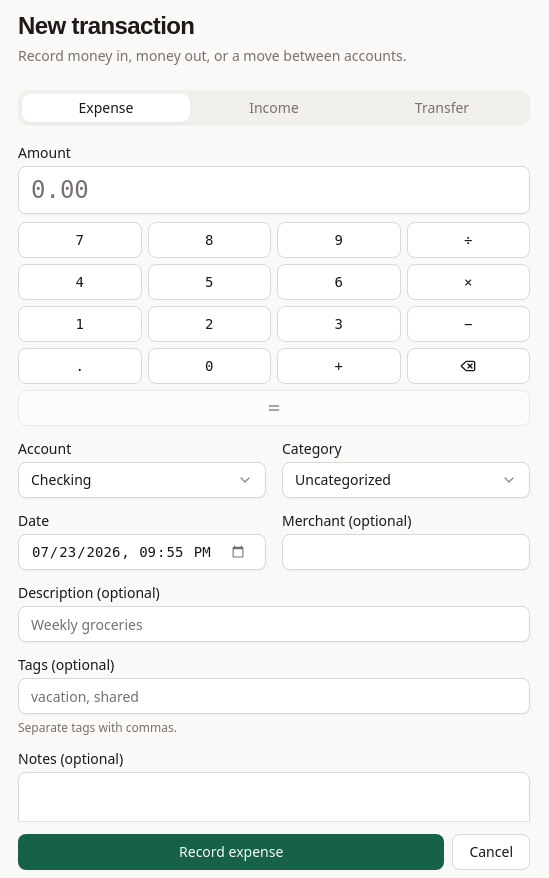
Test: TransactionFormPage › rejects a zero amount with a clear message
In the field labelled "Amount": (274, 190) top-left (18, 166), bottom-right (530, 214), type "0"
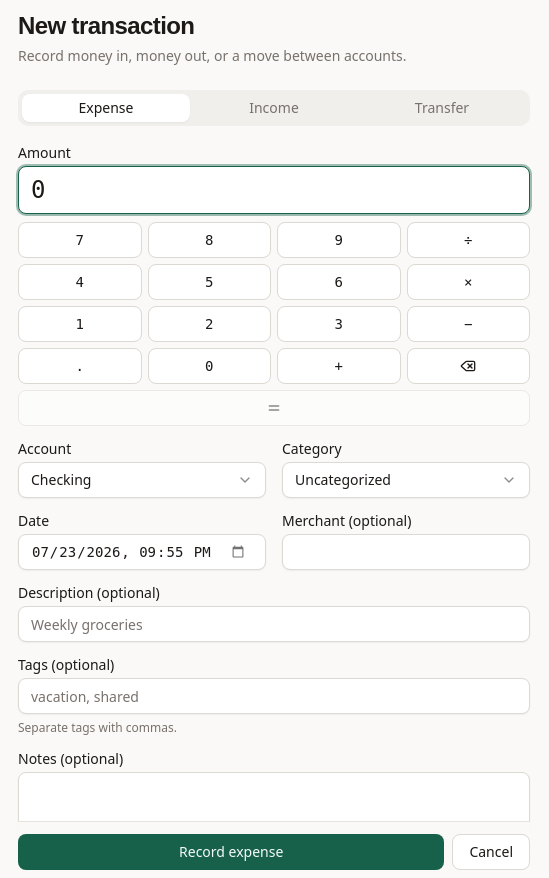
Click the button "Record expense": (231, 852) top-left (18, 834), bottom-right (444, 870)
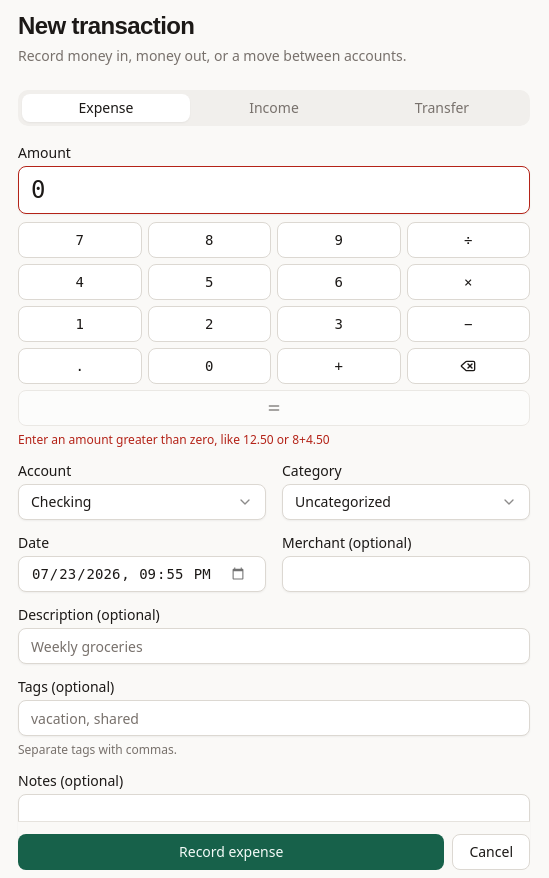
expect the message shows "greater than zero": met, box top-left (18, 431), bottom-right (330, 448)
